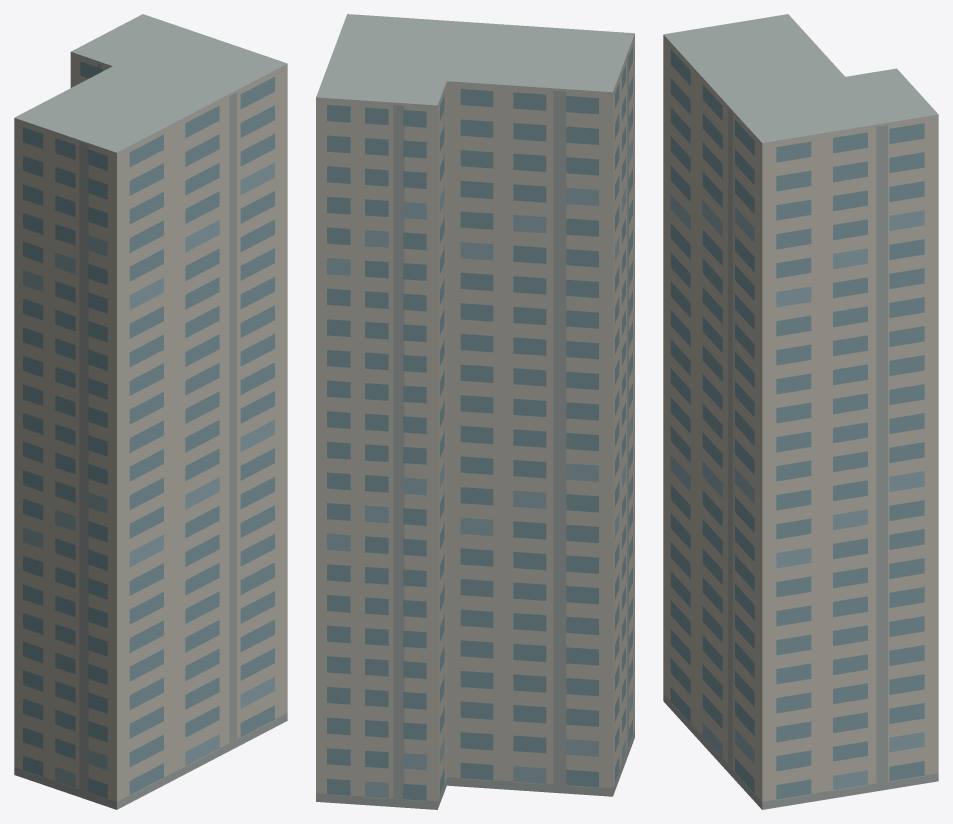
File: residential-00355758-62da-47fb-919d-cda3b05ef0aa.glb
The picture shows the model from 3 angles, left to right: view 1: azimuth 30°, elevation 25°; view 2: azimuth 150°, elevation 25°; view 3: azimuth 270°, elevation 25°; orthographic projection. The views are drawn at different scales.
Visible parts, largest first — view 1: residential-00355758-62da-47fb-919d-cda3b05ef0aa.tmp; view 2: residential-00355758-62da-47fb-919d-cda3b05ef0aa.tmp; view 3: residential-00355758-62da-47fb-919d-cda3b05ef0aa.tmp.
Boxes of the visible parts, x1,y1,x2,y2 form: residential-00355758-62da-47fb-919d-cda3b05ef0aa.tmp: (14, 14, 287, 809); residential-00355758-62da-47fb-919d-cda3b05ef0aa.tmp: (316, 14, 634, 809); residential-00355758-62da-47fb-919d-cda3b05ef0aa.tmp: (663, 14, 938, 809).
Size of the model in its own units: 29.13 by 70.15 by 26.26.
